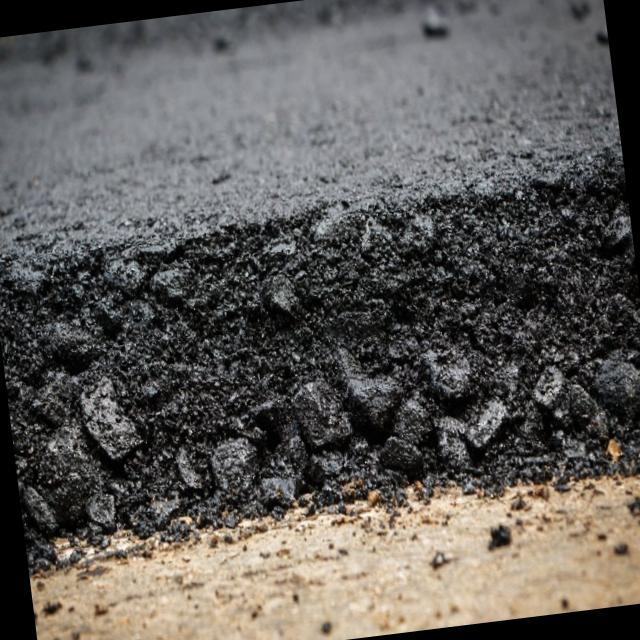asphalt: (0, 0, 640, 545)
white-sand: (29, 476, 640, 640)
